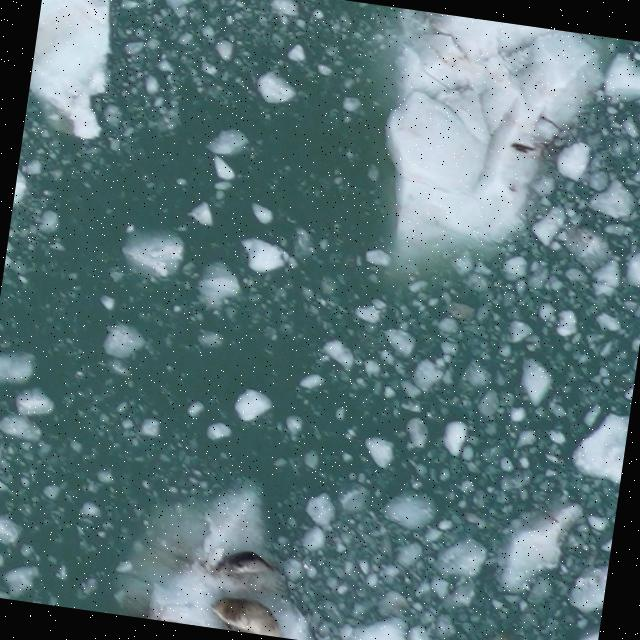seal: (204, 591, 303, 639), (210, 543, 292, 588)
